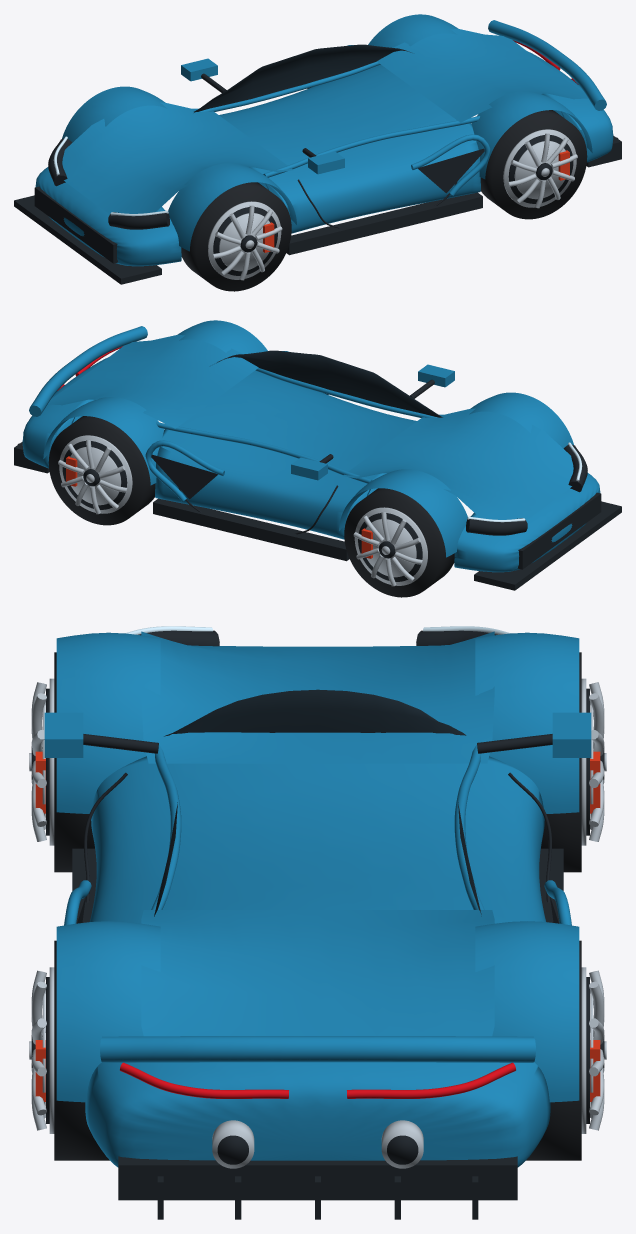
The model's file is car4.glb.
3 views of the same model, one above another, from view 1: azimuth 30°, elevation 25°; view 2: azimuth 150°, elevation 25°; view 3: azimuth 270°, elevation 25° (orthographic). The views are drawn at different scales.
Parts seen in each view (by area): view 1: Continuous sculpted coachwork, Sculpted wheel arch, Door precision seam, Performance tire, Alloy rim, Teardrop panoramic canopy, Side intake recess, Red brake caliper; view 2: Continuous sculpted coachwork, Sculpted wheel arch, Door precision seam, Performance tire, Alloy rim, Teardrop panoramic canopy, Side intake recess, Red brake caliper; view 3: Sculpted wheel arch, Continuous sculpted coachwork, Door precision seam, Alloy rim, Performance tire, Teardrop panoramic canopy, Rear light strip, Red brake caliper, LED blade.
Part boxes in pixels (left/top/right/bottom): Continuous sculpted coachwork: left=35, top=20, right=613, bottom=266; Sculpted wheel arch: left=62, top=14, right=592, bottom=251; Door precision seam: left=14, top=73, right=621, bottom=284; Performance tire: left=181, top=110, right=587, bottom=291; Alloy rim: left=208, top=129, right=577, bottom=280; Teardrop panoramic canopy: left=194, top=44, right=411, bottom=112; Side intake recess: left=307, top=87, right=484, bottom=193; Red brake caliper: left=263, top=150, right=569, bottom=252; Continuous sculpted coachwork: left=22, top=326, right=600, bottom=572; Sculpted wheel arch: left=43, top=320, right=573, bottom=557; Door precision seam: left=14, top=379, right=621, bottom=590; Performance tire: left=48, top=416, right=454, bottom=597; Alloy rim: left=58, top=435, right=427, bottom=586; Teardrop panoramic canopy: left=216, top=350, right=442, bottom=417; Side intake recess: left=151, top=393, right=328, bottom=499; Red brake caliper: left=66, top=456, right=372, bottom=558; Sculpted wheel arch: left=56, top=631, right=579, bottom=1102; Continuous sculpted coachwork: left=44, top=712, right=591, bottom=1167; Door precision seam: left=31, top=630, right=604, bottom=1219; Alloy rim: left=29, top=678, right=606, bottom=1168; Performance tire: left=54, top=652, right=581, bottom=1160; Teardrop panoramic canopy: left=154, top=689, right=481, bottom=916; Rear light strip: left=120, top=1062, right=515, bottom=1098; Red brake caliper: left=35, top=751, right=600, bottom=1101; LED blade: left=125, top=626, right=510, bottom=634.
Size of the model in its own units: 4.88 by 1.32 by 2.39.
